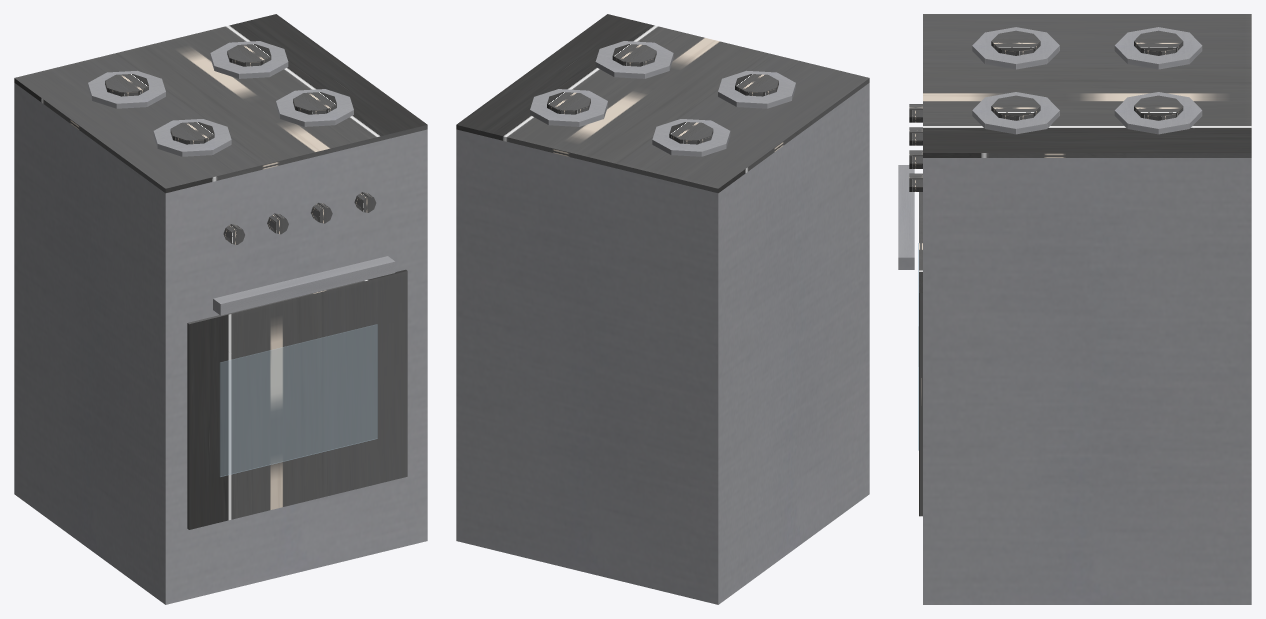
Rendered from Stove.fbx.
3 renders of one model, left to right at view 1: azimuth 30°, elevation 25°; view 2: azimuth 150°, elevation 25°; view 3: azimuth 270°, elevation 25°, orthographic. The views are drawn at different scales.
Parts seen in each view (by area): view 1: Stove; view 2: Stove; view 3: Stove.
Boxes of the visible parts, <box> form: Stove: <box>14,14,427,604</box>; Stove: <box>456,14,869,604</box>; Stove: <box>898,14,1251,604</box>.
Size of the model in its own units: 0.6 by 0.93 by 0.645.
